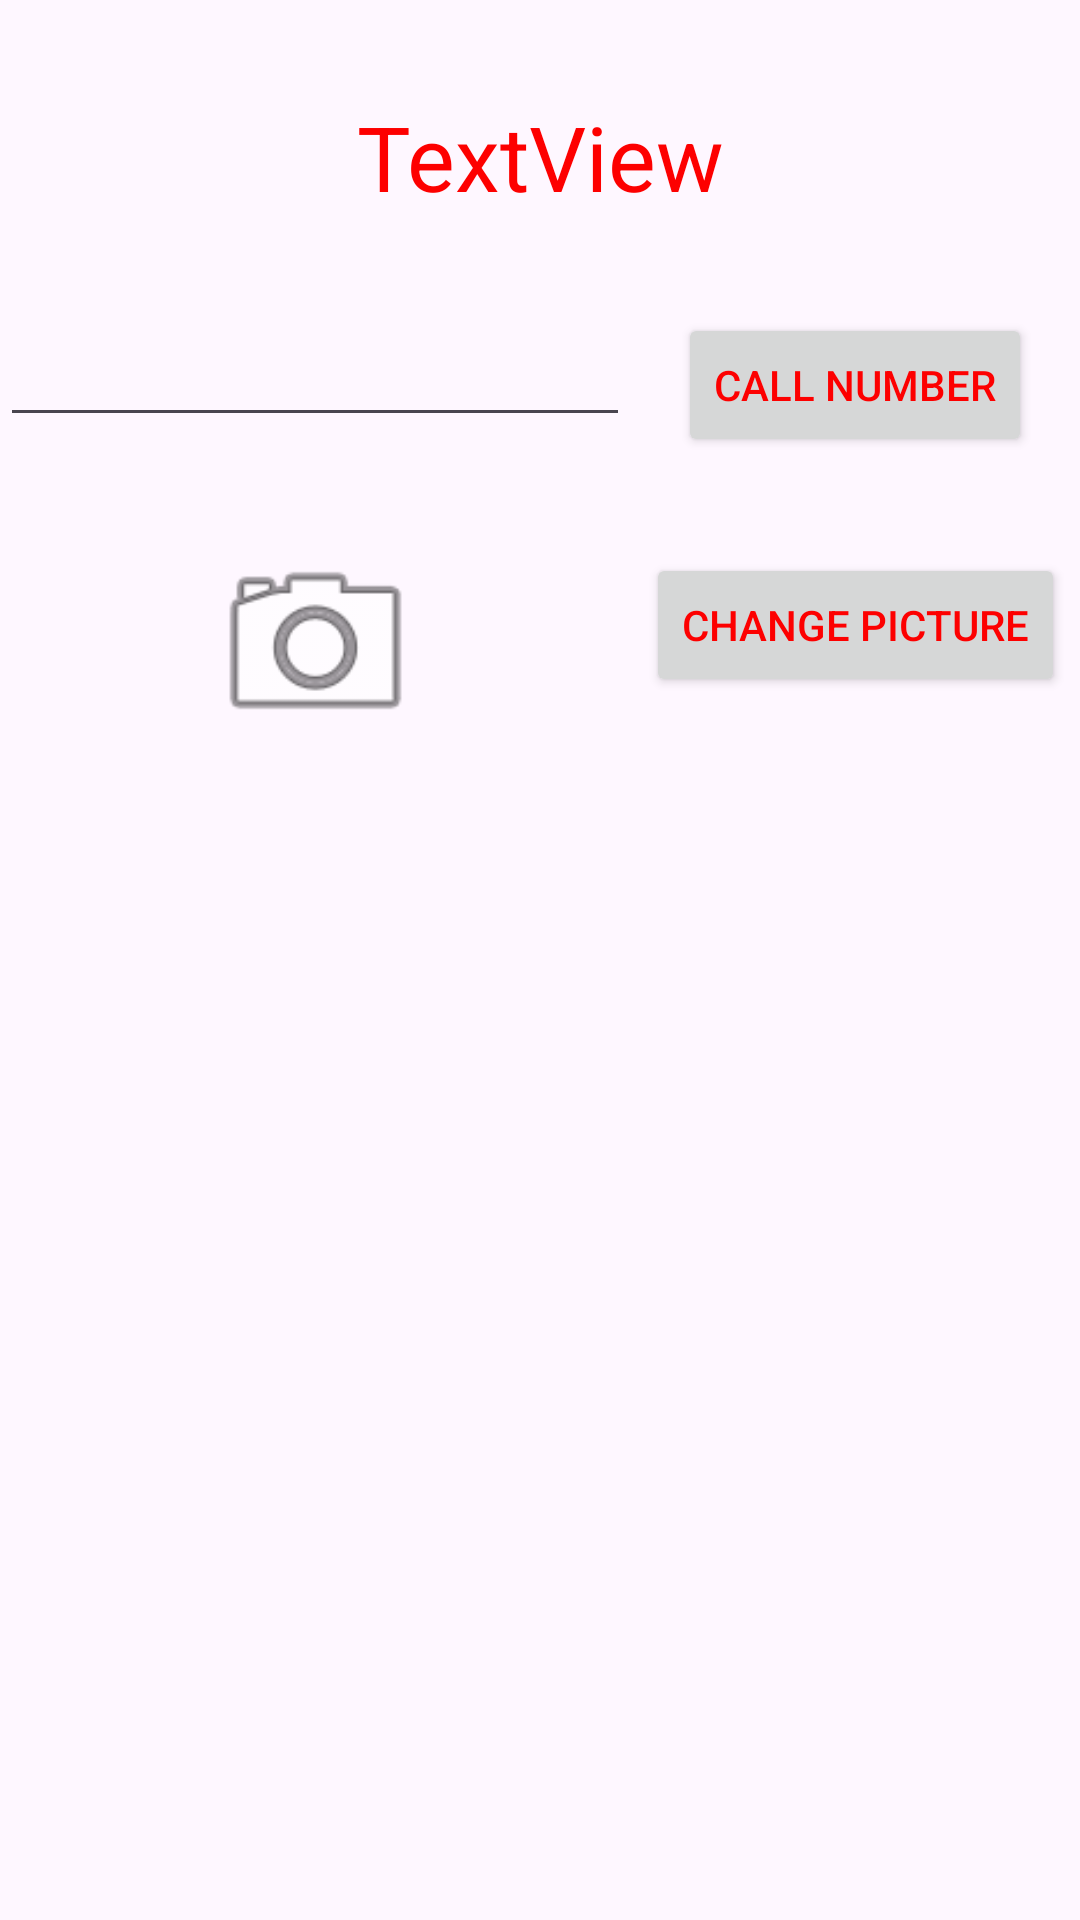

Named icons in this screenshot (1080*1920) and their centers, [x,y]:
camera: [315,640]
